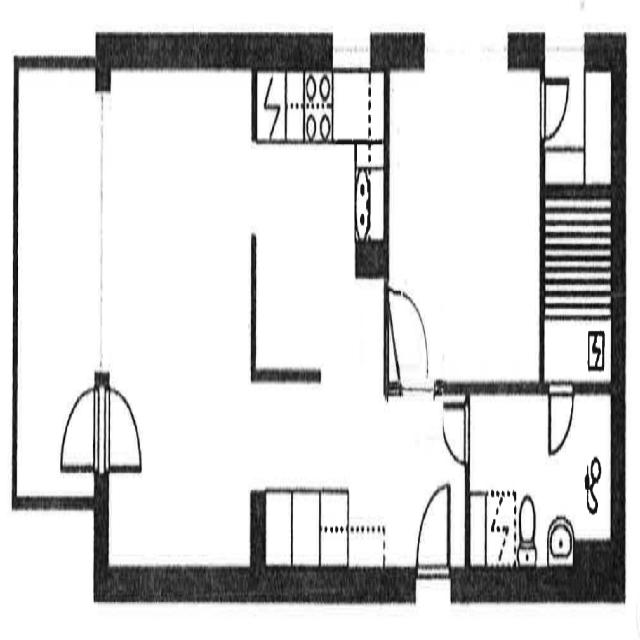door: (386, 278, 435, 403), (57, 372, 108, 477), (95, 370, 146, 468), (413, 474, 452, 581), (532, 63, 575, 154), (542, 369, 581, 467), (438, 389, 472, 472)
window: (86, 72, 115, 392), (412, 26, 514, 79)
zone: (101, 59, 254, 584), (387, 49, 545, 388), (251, 61, 384, 383), (15, 58, 104, 524), (459, 385, 613, 582), (540, 182, 618, 388)
